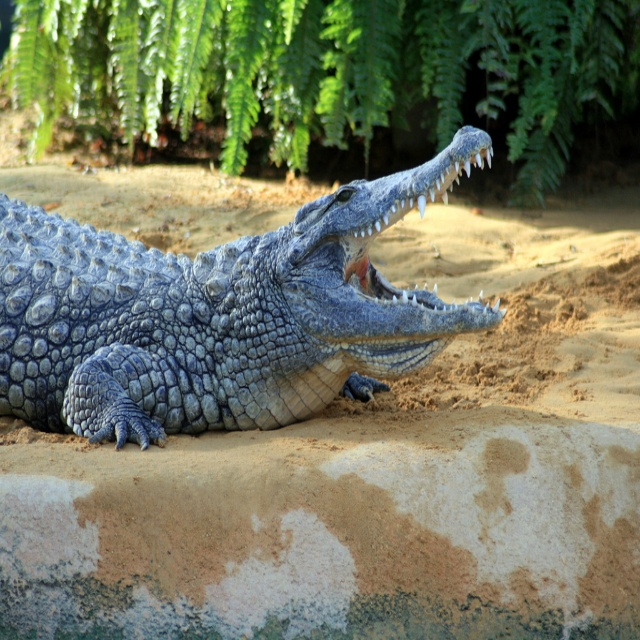Crocodile: (0, 125, 506, 451)
